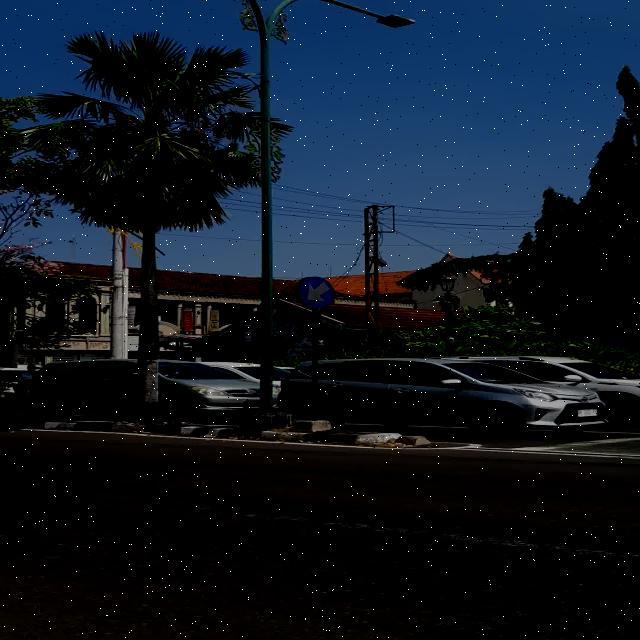Lajur Kiri: (300, 276, 332, 308)
